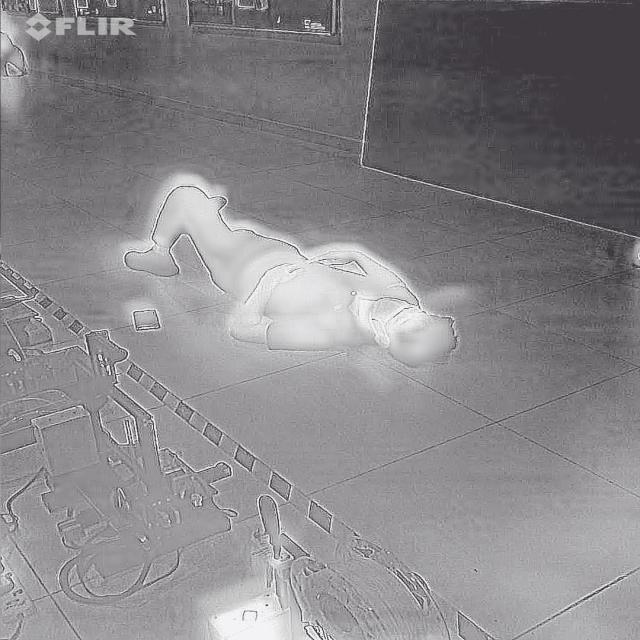Victim: (113, 166, 465, 373), (0, 31, 38, 77)
